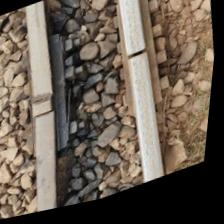person: (25, 89, 69, 142), (119, 38, 159, 81)
